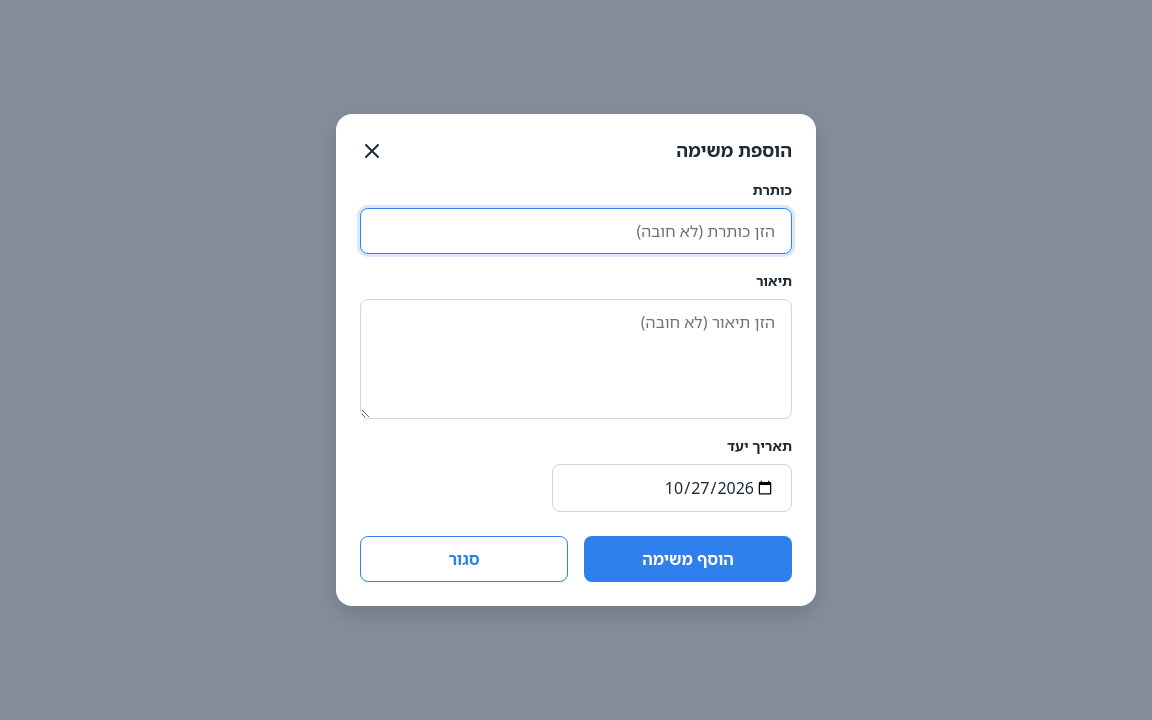
Test: CreateTaskModal › shows a network error inside the form
Step 1. Type "חדשה" into the field labelled "כותרת" → (576, 231), box [360,208,792,254]
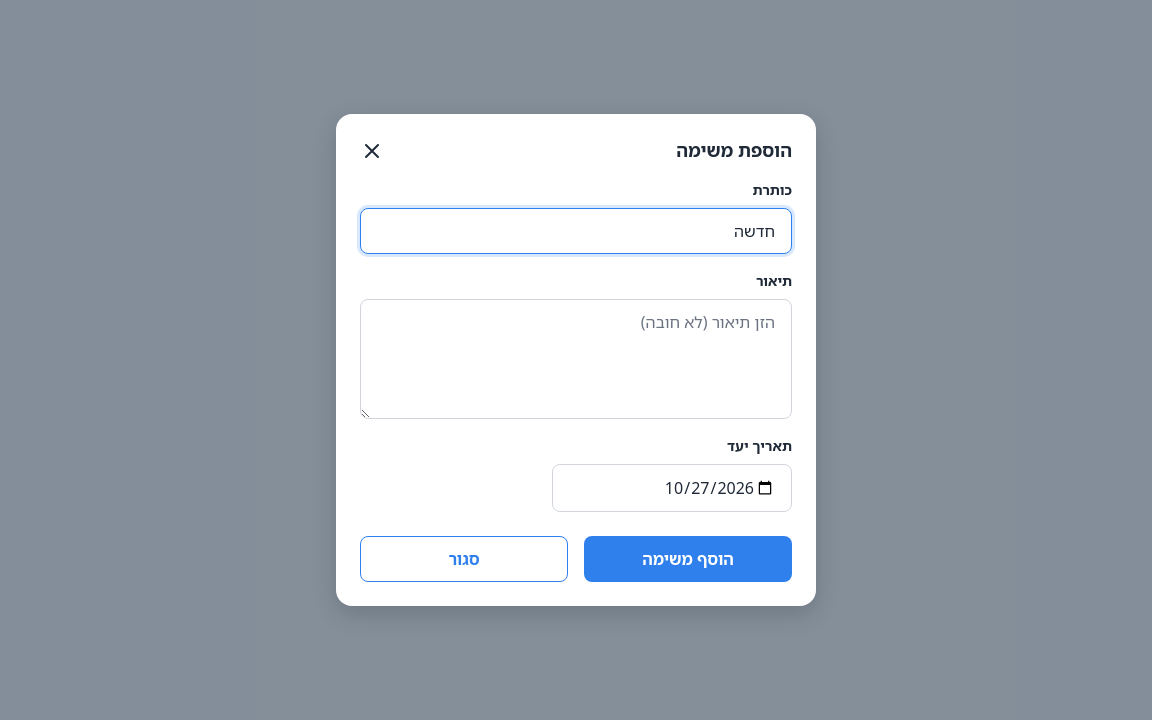
Step 2. Click the button "הוסף משימה" → (688, 559), box [584,536,792,582]
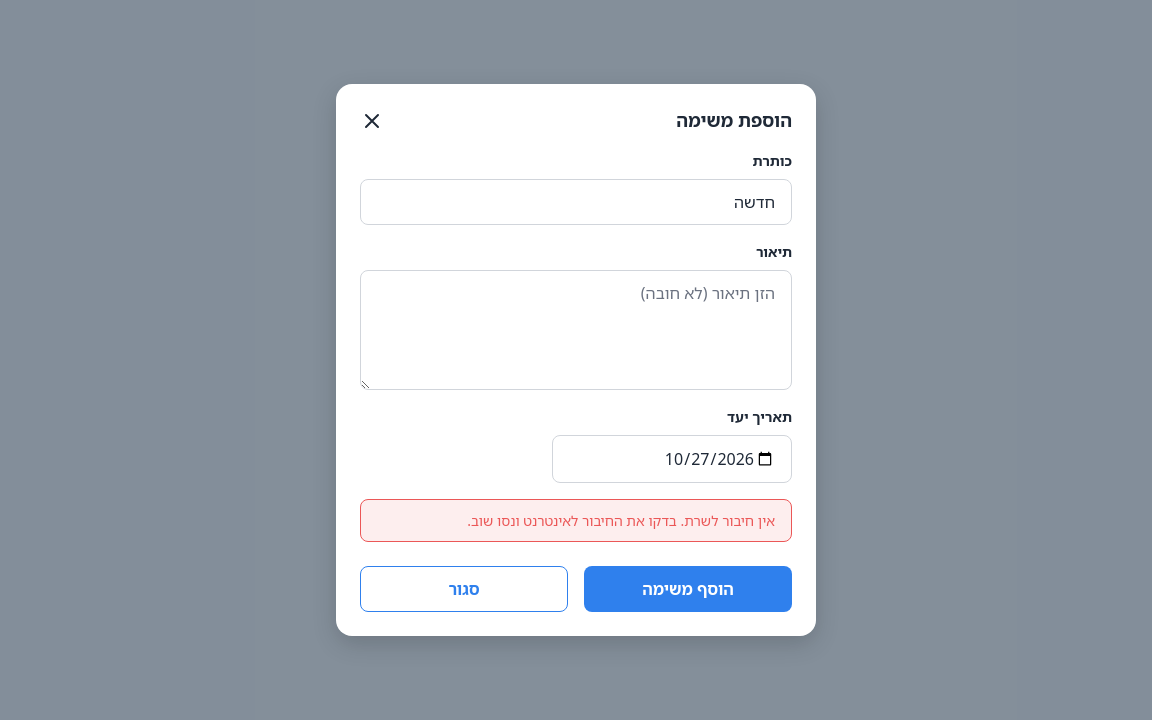
Result: the message shows "אין חיבור לשרת" at [467,511,775,530]
